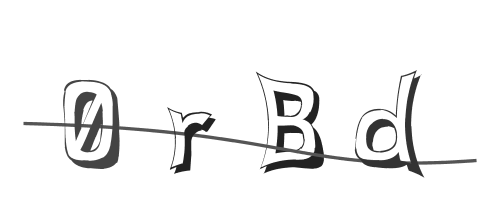0: (58, 71, 125, 172)
B: (249, 68, 328, 176)
d: (350, 66, 423, 184)
r: (162, 104, 219, 172)
